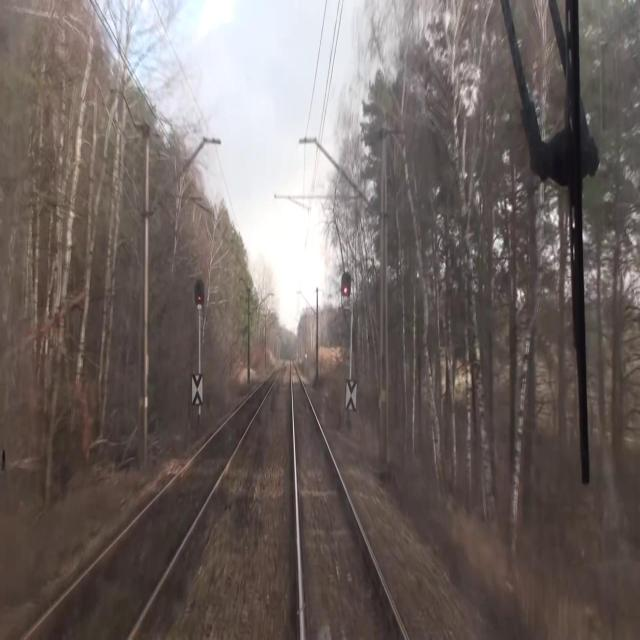rail-track: (29, 372, 277, 639), (292, 365, 402, 639)
